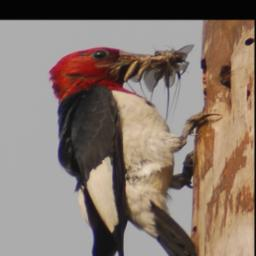Woodpecker: (49, 46, 220, 256)
